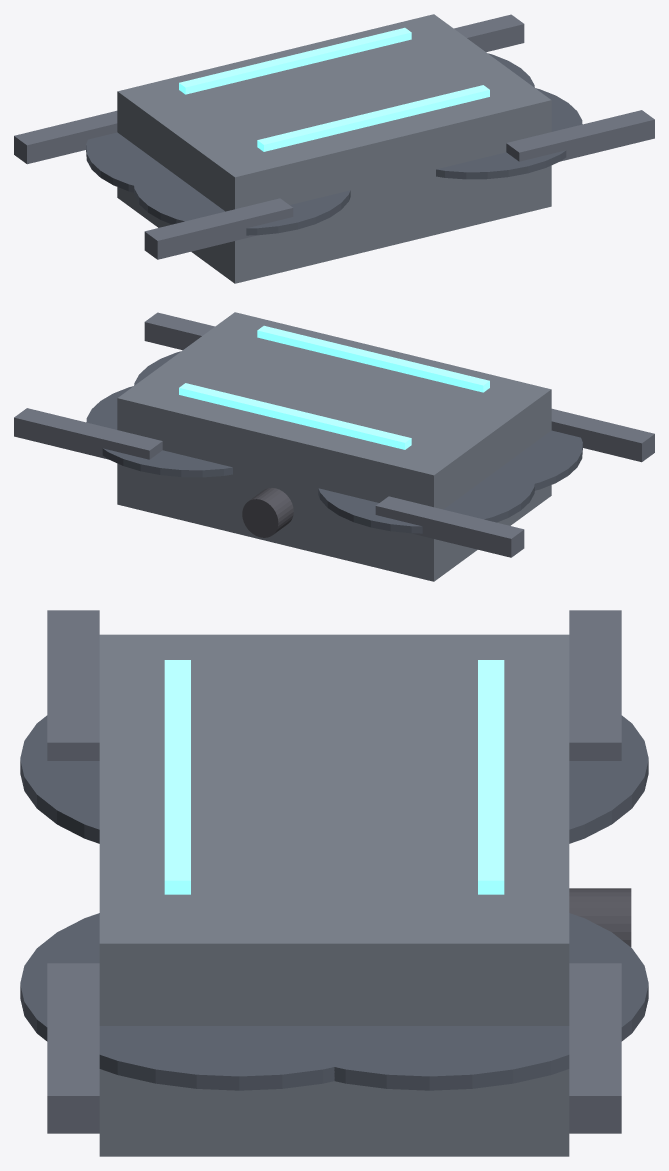
The model's file is combat_drone.glb.
3 renders of one model, top to bottom at view 1: azimuth 30°, elevation 25°; view 2: azimuth 150°, elevation 25°; view 3: azimuth 270°, elevation 25°, orthographic. The views are drawn at different scales.
Visible parts, largest first — view 1: Cube, Cylinder, Cube.001, Cube.003, Cube.006, Cube.005, Cylinder.002, Cube.002, Cylinder.001, Cube.004; view 2: Cube, Cylinder.001, Cube.002, Cube.004, Cube.005, Cube.006, Cylinder.003, Cube.001, Cylinder, Cylinder.004, Cube.003; view 3: Cube, Cylinder.002, Cylinder.003, Cube.003, Cube.004, Cube.001, Cube.002, Cube.005, Cube.006, Cylinder, Cylinder.001, Cylinder.004.
Boxes of the visible parts, x1=… form: Cube: x1=117, y1=14, x2=551, y2=283; Cylinder: x1=133, y1=158, x2=350, y2=235; Cube.001: x1=144, y1=198, x2=293, y2=259; Cube.003: x1=506, y1=110, x2=654, y2=161; Cube.006: x1=179, y1=27, x2=411, y2=94; Cube.005: x1=257, y1=85, x2=489, y2=151; Cylinder.002: x1=436, y1=88, x2=582, y2=179; Cube.002: x1=14, y1=110, x2=117, y2=164; Cylinder.001: x1=86, y1=132, x2=180, y2=192; Cube.004: x1=454, y1=14, x2=524, y2=52; Cube: x1=117, y1=312, x2=551, y2=581; Cylinder.001: x1=318, y1=455, x2=535, y2=533; Cube.002: x1=375, y1=496, x2=524, y2=557; Cube.004: x1=14, y1=408, x2=162, y2=459; Cube.005: x1=257, y1=325, x2=489, y2=392; Cube.006: x1=179, y1=383, x2=411, y2=449; Cylinder.003: x1=86, y1=386, x2=232, y2=477; Cube.001: x1=551, y1=408, x2=654, y2=462; Cylinder: x1=468, y1=430, x2=582, y2=491; Cylinder.004: x1=242, y1=488, x2=293, y2=537; Cube.003: x1=144, y1=312, x2=214, y2=350; Cube: x1=99, y1=634, x2=569, y2=1156; Cylinder.002: x1=20, y1=913, x2=432, y2=1090; Cylinder.003: x1=236, y1=913, x2=648, y2=1090; Cube.003: x1=47, y1=963, x2=99, y2=1133; Cube.004: x1=569, y1=963, x2=621, y2=1133; Cube.001: x1=47, y1=610, x2=99, y2=760; Cube.002: x1=569, y1=610, x2=621, y2=760; Cube.005: x1=164, y1=660, x2=190, y2=894; Cube.006: x1=478, y1=660, x2=504, y2=894; Cylinder: x1=20, y1=715, x2=99, y2=843; Cylinder.001: x1=569, y1=715, x2=648, y2=843; Cylinder.004: x1=569, y1=888, x2=631, y2=947.
Size of the model in its own units: 0.6044 by 0.1346 by 0.3308.
